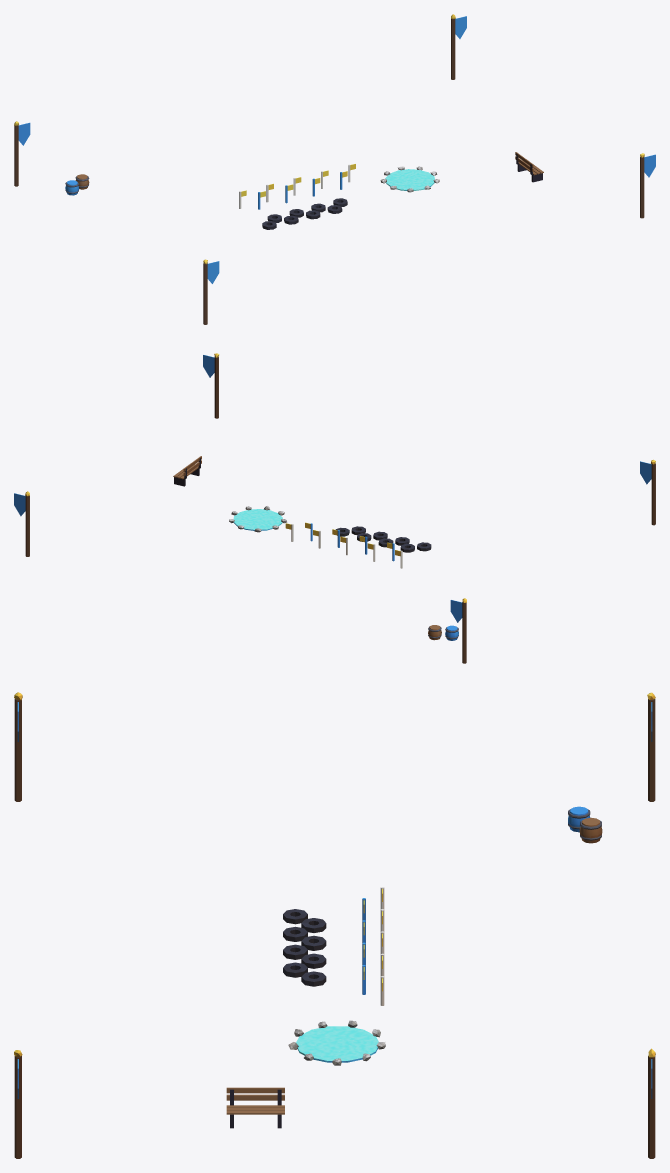
Rendered from area_track_3_5.fbx.
3 views of the same model, one above another, from view 1: azimuth 30°, elevation 25°; view 2: azimuth 150°, elevation 25°; view 3: azimuth 270°, elevation 25° (orthographic). The views are drawn at different scales.
Parts seen in each view (by area): view 1: area_track_3_5_body; view 2: area_track_3_5_body; view 3: area_track_3_5_body.
Part boxes in pixels (x1,y1,x2,y2): area_track_3_5_body: [14, 14, 655, 324]; area_track_3_5_body: [14, 353, 655, 663]; area_track_3_5_body: [14, 692, 655, 1158].
Bounding box in the file's own units: 16591 × 2295 × 12162.
1 material, 1 textured.
